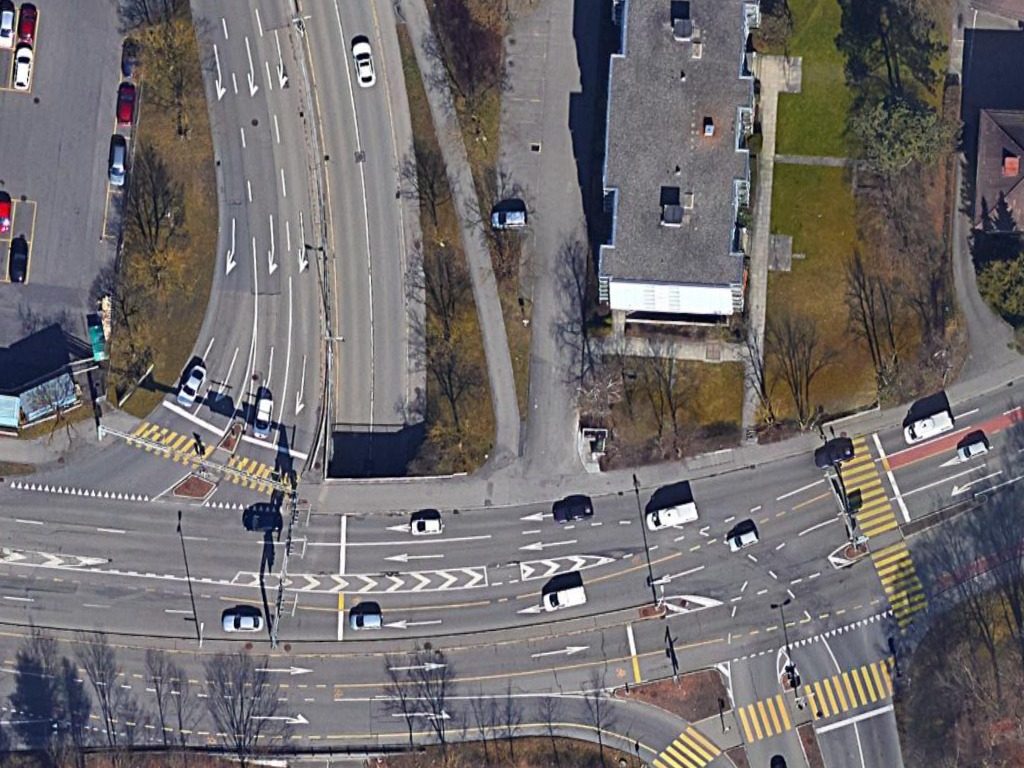car: (173, 358, 209, 412), (346, 35, 378, 90), (7, 45, 39, 96), (112, 76, 137, 130), (548, 498, 596, 525), (107, 135, 131, 188), (250, 394, 275, 443), (220, 608, 267, 634), (486, 204, 533, 230), (954, 435, 991, 466), (15, 3, 39, 50), (723, 527, 759, 555), (405, 514, 448, 536), (346, 611, 387, 633)
van: (897, 403, 959, 447), (640, 499, 703, 534), (539, 582, 590, 615)
